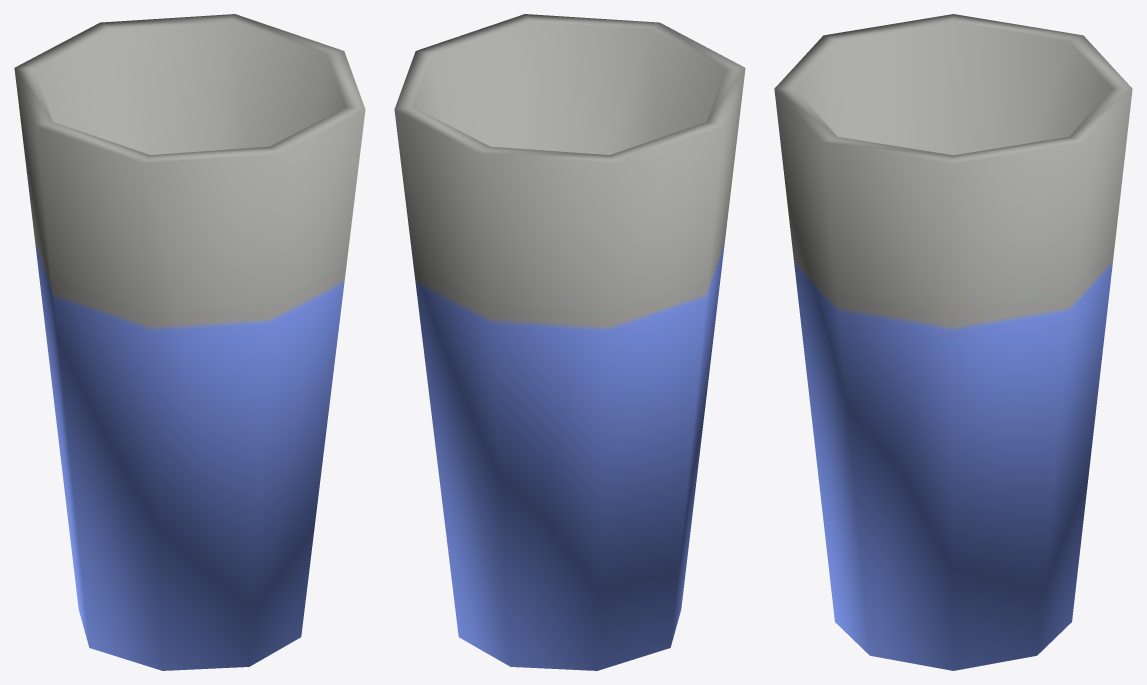
File: beizimesh.FBX
The picture shows the model from 3 angles, left to right: view 1: azimuth 30°, elevation 25°; view 2: azimuth 150°, elevation 25°; view 3: azimuth 270°, elevation 25°; orthographic projection.
Parts seen in each view (by area): view 1: beizi; view 2: beizi; view 3: beizi.
Boxes of the visible parts, bbox=[...] form: beizi: bbox=[14, 14, 365, 670]; beizi: bbox=[394, 14, 745, 670]; beizi: bbox=[774, 14, 1132, 670].
Size of the model in its own units: 92.6 by 153 by 93.4.
1 material, 1 textured.
